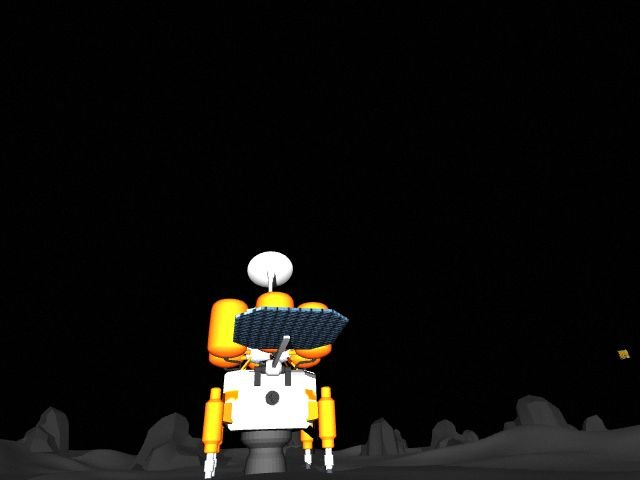homebase: (200, 248, 351, 480)
